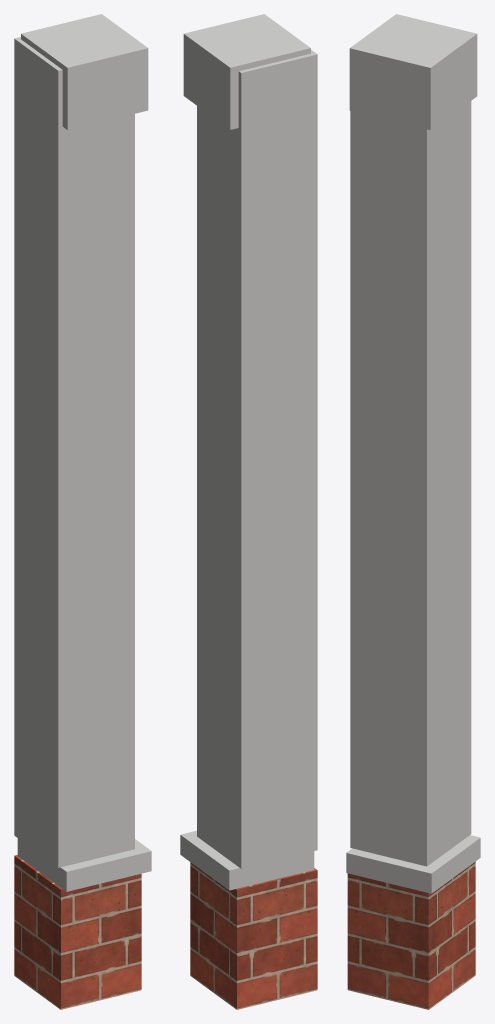
The model's file is school_corner.glb.
3 views of the same model, side by side, from view 1: azimuth 30°, elevation 25°; view 2: azimuth 210°, elevation 25°; view 3: azimuth 330°, elevation 25° (orthographic).
Visible parts, largest first — view 1: school_corner_trim, school_corner_brick; view 2: school_corner_trim, school_corner_brick; view 3: school_corner_trim, school_corner_brick.
Boxes of the visible parts, x1,y1,x2,y2 form: school_corner_trim: (14,14,151,891); school_corner_brick: (14,855,141,1009); school_corner_trim: (180,14,317,890); school_corner_brick: (190,862,317,1009); school_corner_trim: (346,14,480,893); school_corner_brick: (347,862,475,1009).
Bounding box in the file's own units: 0.41 × 4.24 × 0.41.
Materials: 2 (1 with a texture image).
